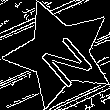N_NW: (27, 22, 92, 86)
